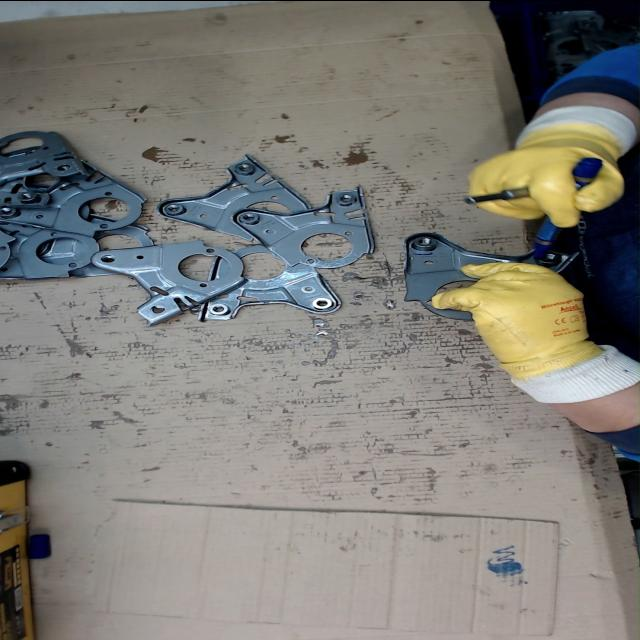hands: (427, 261, 593, 377), (466, 122, 628, 228)
